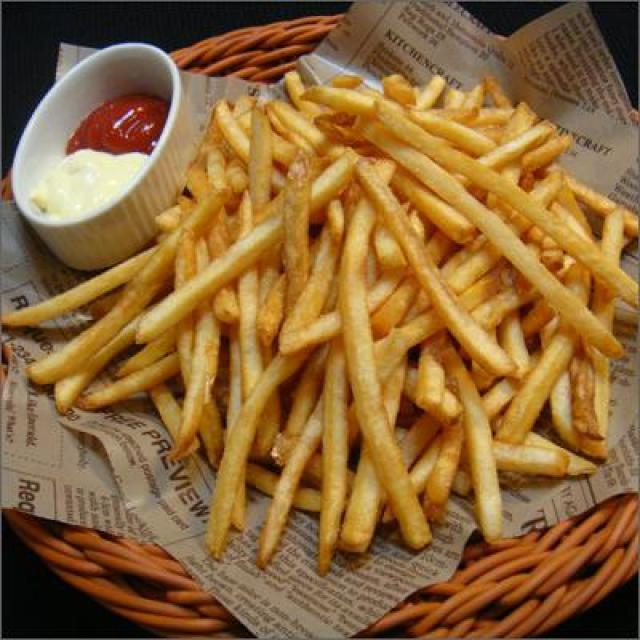French Fries: (179, 77, 626, 536)
